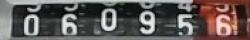digits: (213, 12, 232, 40), (100, 8, 118, 34), (176, 13, 194, 38), (138, 9, 155, 34), (61, 13, 77, 33), (23, 13, 38, 33)
